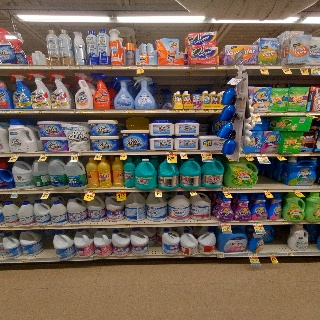All PRICE TAGS: (17, 65, 30, 69), (184, 65, 196, 69), (14, 110, 25, 114), (212, 65, 223, 69), (70, 65, 81, 69), (248, 253, 258, 257), (167, 109, 177, 113), (201, 150, 211, 154), (85, 65, 94, 69), (136, 65, 145, 69), (167, 151, 176, 155), (86, 189, 95, 193), (255, 153, 266, 156), (35, 110, 46, 113), (75, 110, 86, 113), (308, 152, 316, 156), (275, 153, 283, 157), (45, 65, 53, 69), (252, 222, 262, 225), (221, 222, 231, 225), (20, 259, 30, 262), (1, 110, 11, 113), (298, 65, 308, 68), (146, 110, 156, 113), (116, 189, 126, 192), (203, 109, 210, 113), (183, 109, 190, 113), (72, 152, 79, 156), (12, 190, 19, 194), (155, 189, 162, 193), (309, 65, 318, 68), (122, 65, 131, 68), (124, 110, 133, 113), (264, 112, 272, 115), (252, 112, 260, 115), (41, 152, 47, 156), (69, 225, 75, 229), (262, 189, 270, 192), (223, 189, 229, 193), (287, 252, 293, 256), (106, 65, 114, 68), (98, 110, 106, 113), (189, 190, 197, 193), (212, 109, 219, 112), (193, 109, 200, 112), (303, 112, 310, 115), (281, 112, 288, 115), (12, 153, 19, 156), (244, 153, 251, 156), (294, 153, 301, 156), (281, 221, 288, 224), (292, 189, 299, 192), (44, 190, 51, 193), (124, 224, 131, 227), (218, 254, 225, 257), (281, 65, 288, 68), (121, 152, 128, 155), (180, 151, 187, 154), (7, 227, 13, 230), (38, 226, 44, 229), (195, 223, 201, 226), (269, 253, 275, 256), (152, 65, 158, 68), (96, 152, 102, 155), (259, 66, 267, 68), (97, 257, 103, 259), (135, 256, 141, 258), (58, 259, 63, 261), (180, 255, 185, 257), (178, 110, 183, 112)
